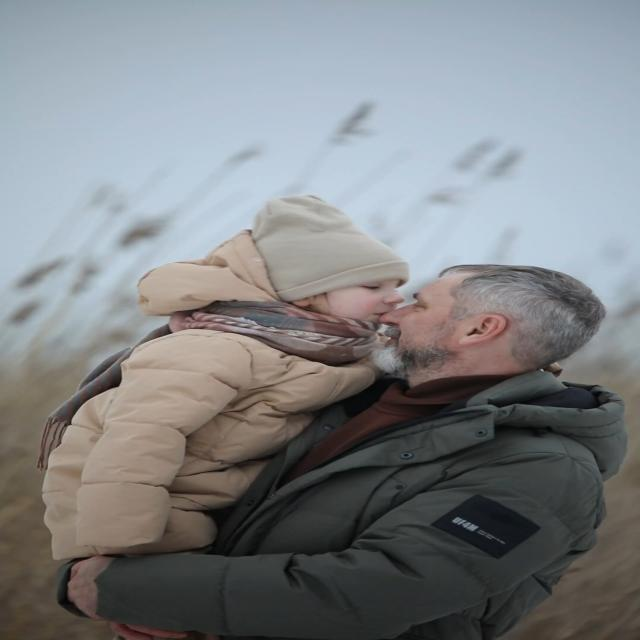stand: (95, 259, 640, 640), (66, 200, 368, 560)
